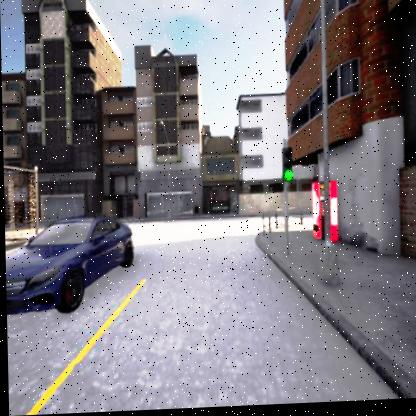vehicle: (6, 214, 136, 314)
